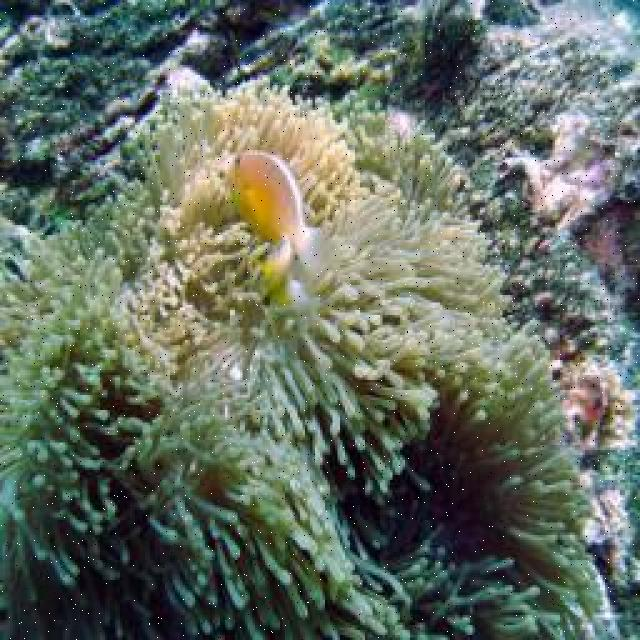fish: (224, 149, 335, 285), (269, 263, 322, 324), (256, 236, 298, 296)
reefs: (0, 80, 602, 636), (563, 353, 638, 456)
